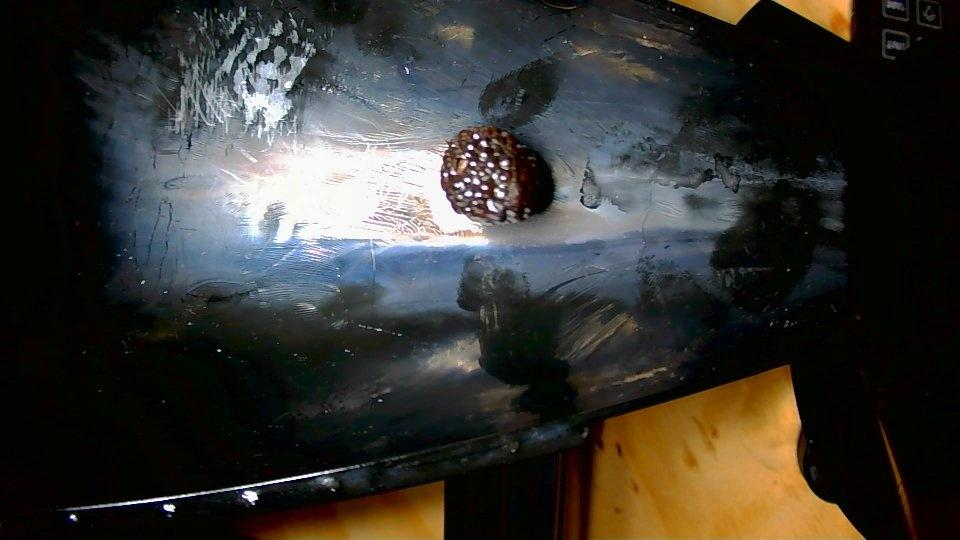berry: (440, 126, 551, 222)
